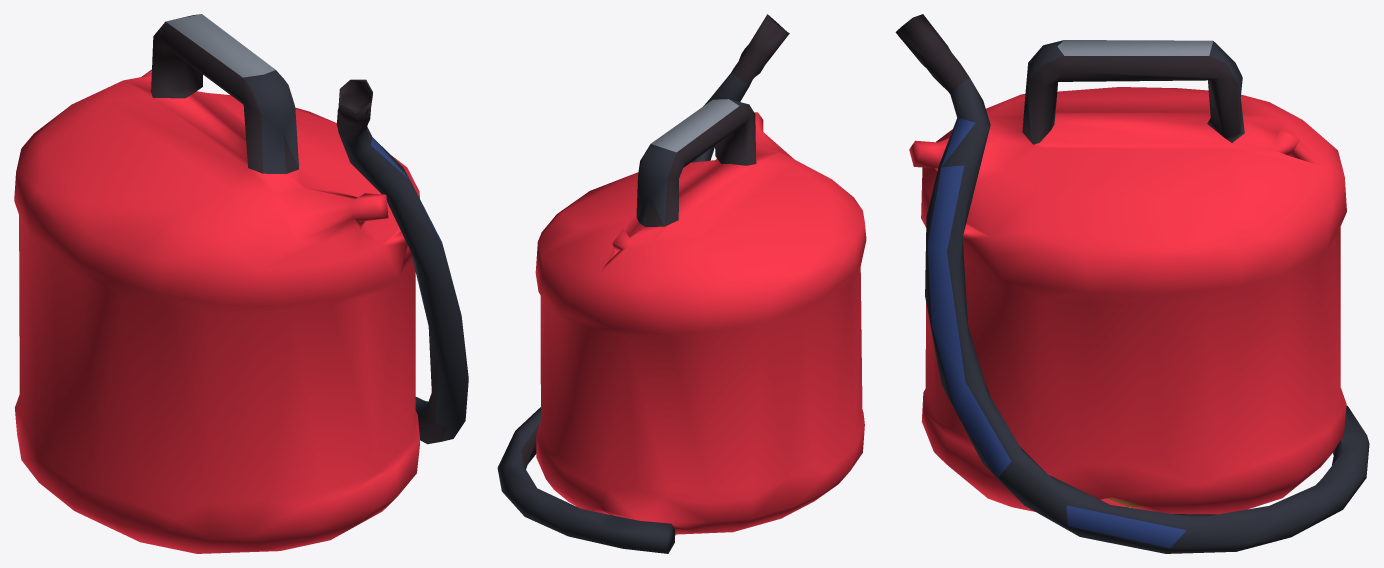
The model's file is SM_gas_cylinder_red_b.glb.
3 renders of one model, left to right at view 1: azimuth 30°, elevation 25°; view 2: azimuth 150°, elevation 25°; view 3: azimuth 270°, elevation 25°, orthographic. The views are drawn at different scales.
Visible parts, largest first — view 1: SM_gas_cylinder_red_b; view 2: SM_gas_cylinder_red_b; view 3: SM_gas_cylinder_red_b.
Boxes of the visible parts, x1,y1,x2,y2 form: SM_gas_cylinder_red_b: [14, 14, 468, 553]; SM_gas_cylinder_red_b: [497, 14, 866, 553]; SM_gas_cylinder_red_b: [895, 14, 1369, 553].
Bounding box in the file's own units: 0.4909 × 0.6 × 0.5594.
Materials: 1 (1 with a texture image).
